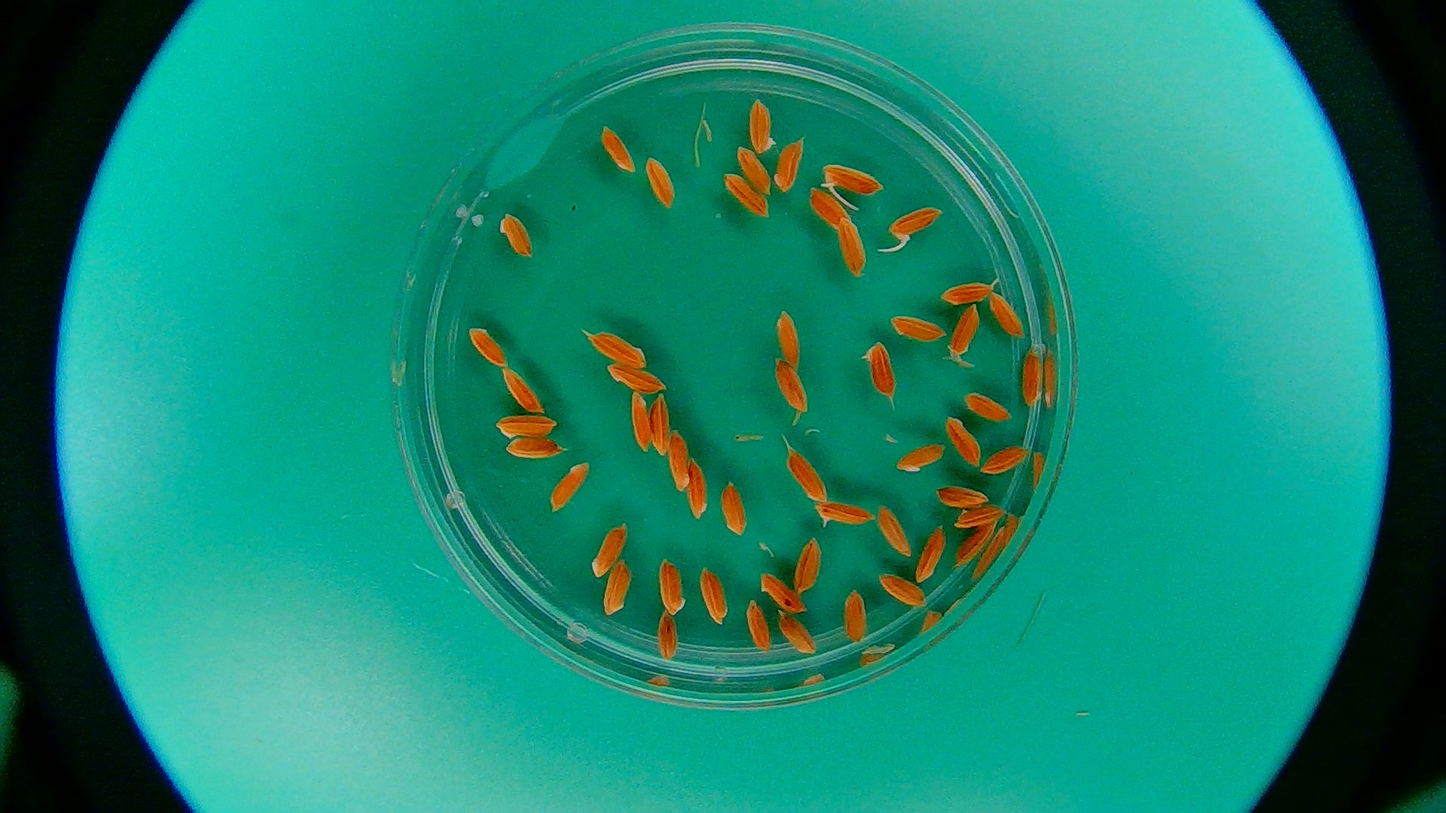no: (833, 216, 877, 285), (584, 324, 650, 369), (545, 460, 595, 518), (497, 364, 549, 416), (756, 566, 811, 615), (787, 531, 829, 594), (785, 443, 830, 501), (988, 286, 1032, 343), (602, 360, 671, 396), (642, 151, 682, 212), (773, 606, 821, 656), (887, 307, 950, 345), (776, 306, 810, 376), (859, 340, 898, 401), (944, 408, 983, 469), (730, 141, 771, 199), (717, 478, 754, 542), (721, 171, 769, 220), (804, 179, 852, 228), (694, 564, 731, 627), (589, 522, 629, 580), (773, 356, 811, 416), (877, 569, 930, 611), (599, 119, 636, 179), (892, 440, 950, 478), (665, 427, 696, 498), (682, 455, 714, 523), (874, 502, 912, 559), (465, 322, 511, 369), (912, 522, 947, 583), (657, 556, 690, 620), (951, 498, 1009, 534), (962, 386, 1013, 426), (773, 132, 806, 193), (624, 388, 654, 455), (746, 94, 779, 154), (950, 301, 980, 367), (493, 410, 556, 441), (503, 433, 569, 462), (975, 443, 1032, 476), (495, 213, 535, 260), (601, 558, 633, 615), (933, 480, 992, 510), (840, 587, 871, 644), (650, 389, 675, 459), (743, 595, 771, 654), (940, 279, 995, 309), (1019, 342, 1044, 407), (654, 607, 680, 665)
yes: (810, 496, 878, 529), (822, 163, 878, 197), (890, 206, 945, 240)
